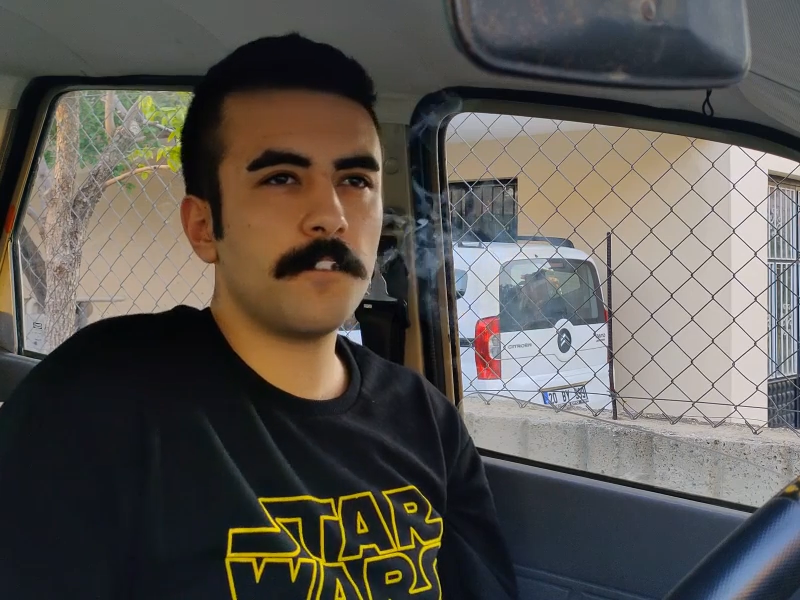sigara: (311, 259, 340, 273)
